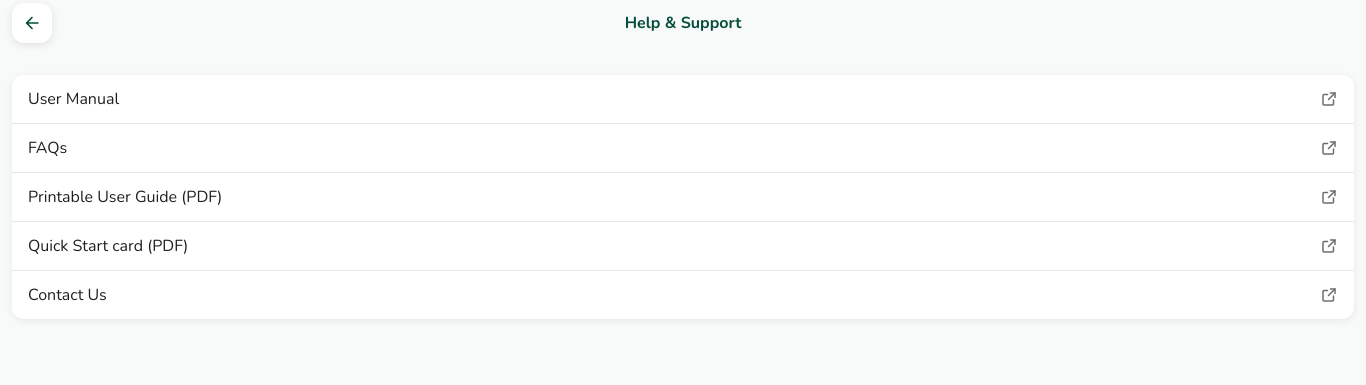
Scenario: Help & Support page › printable guide (N16) › no internet shows 'Help needs internet.'
The width and height of the screenshot is (1366, 385).
Click the button "Quick Start card (PDF)" at (108, 246), box [12, 222, 1354, 270]
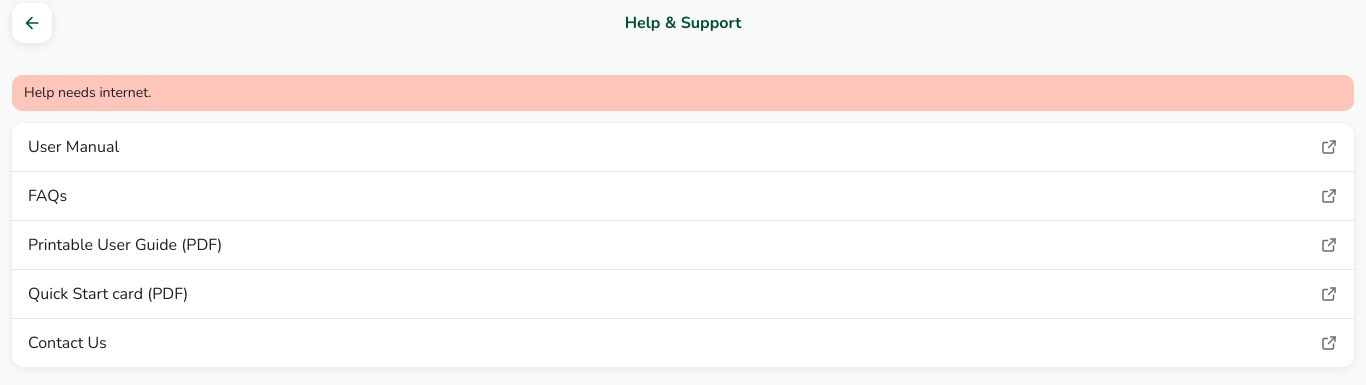
Expected: the message reads "Help needs internet.", [24, 83, 152, 102]
